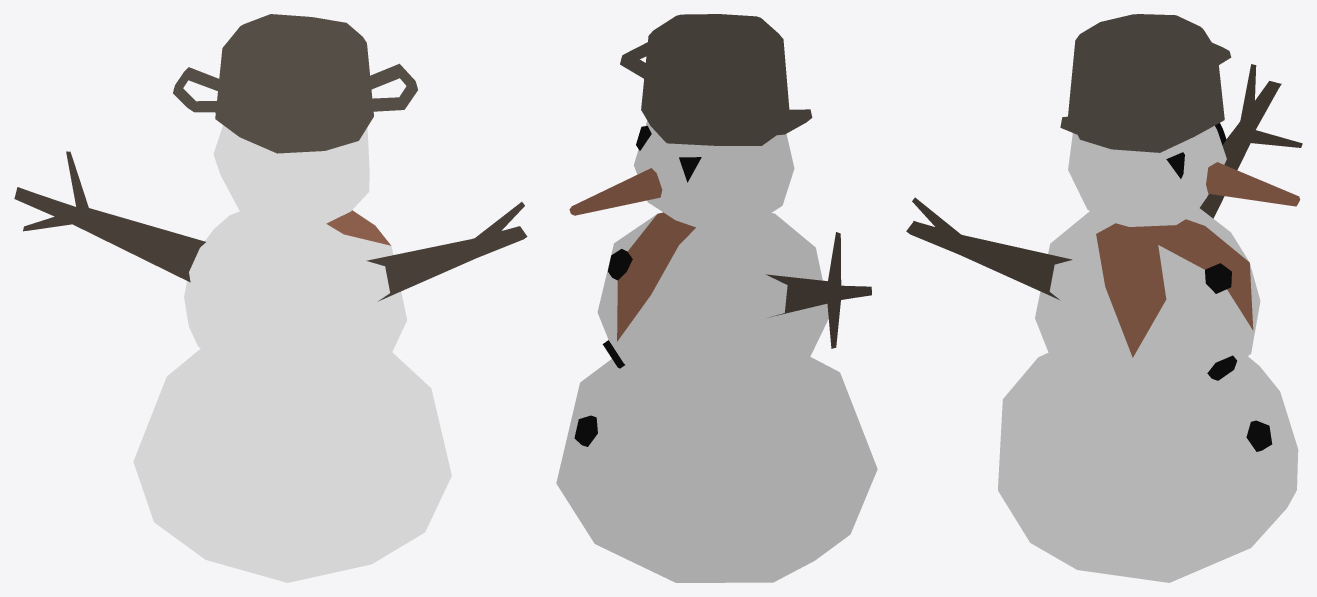
The model's file is snowman_01.dae.
3 renders of one model, left to right at view 1: azimuth 30°, elevation 25°; view 2: azimuth 150°, elevation 25°; view 3: azimuth 270°, elevation 25°, orthographic.
Parts seen in each view (by area): view 1: snowman_01-0; view 2: snowman_01-0; view 3: snowman_01-0.
Part boxes in pixels (x1,y1,x2,y2): snowman_01-0: (14,14,527,582); snowman_01-0: (556,14,877,582); snowman_01-0: (906,14,1302,582).
Bounding box in the file's own units: 2.6 × 3.62 × 2.51.
